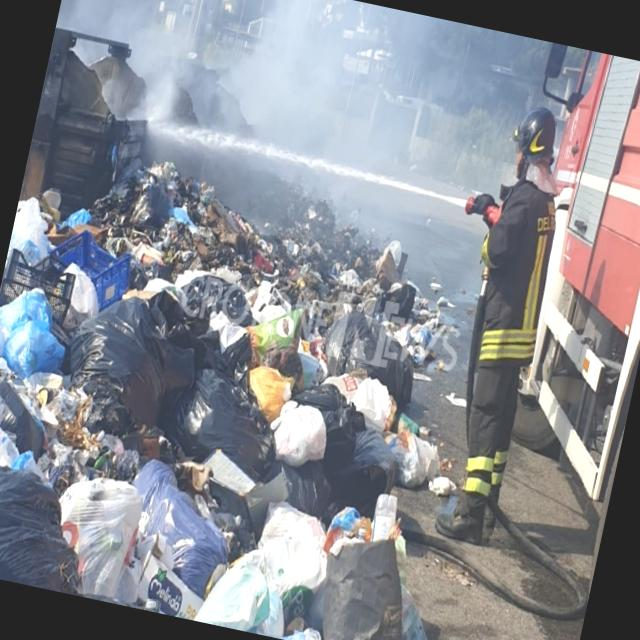garbage: (0, 143, 470, 640)
